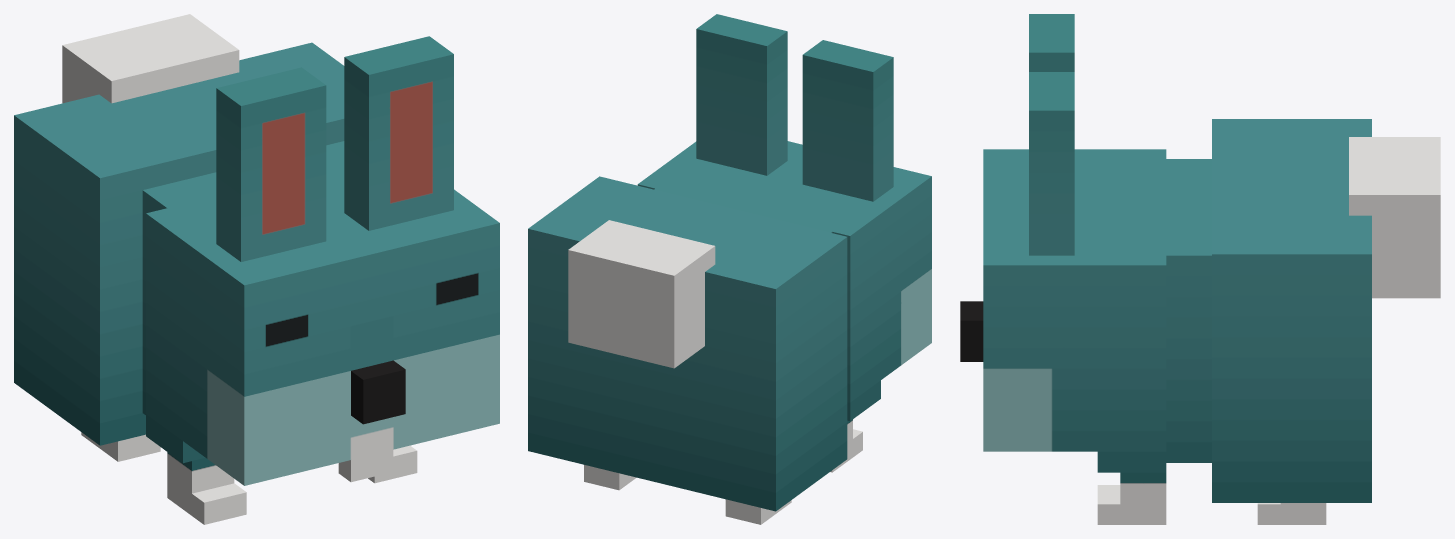
3 renders of one model, left to right at view 1: azimuth 30°, elevation 25°; view 2: azimuth 150°, elevation 25°; view 3: azimuth 270°, elevation 25°, orthographic. The views are drawn at different scales.
Visible parts, largest first — view 1: cr010; view 2: cr010; view 3: cr010.
Boxes of the visible parts, x1,y1,x2,y2 form: cr010: (14, 14, 499, 524); cr010: (528, 14, 931, 524); cr010: (960, 14, 1440, 524).
Size of the model in its own units: 14 by 20 by 21.
